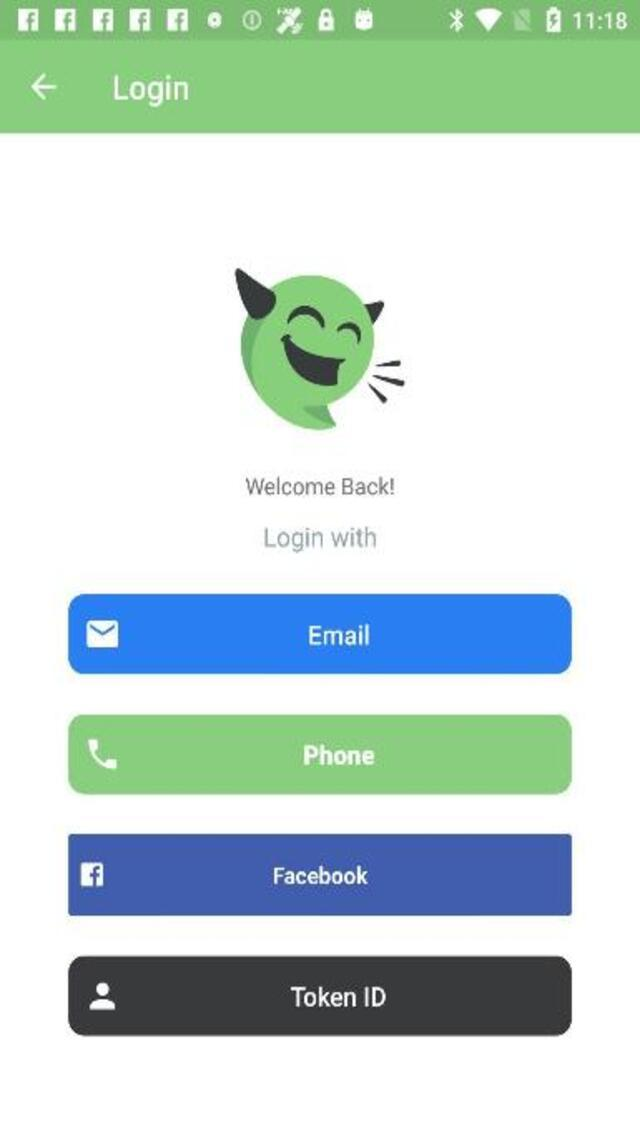Icon: (86, 736, 120, 774), (85, 619, 119, 648), (90, 982, 117, 1012), (80, 860, 106, 888), (29, 74, 56, 100)
Image: (234, 268, 404, 429)
Text: (264, 526, 374, 552), (245, 476, 393, 494), (288, 984, 390, 1010), (269, 864, 370, 889), (114, 74, 189, 106), (298, 741, 380, 770), (306, 620, 373, 650)
TextButton: (67, 834, 571, 916), (68, 595, 570, 675), (68, 714, 570, 794), (68, 956, 570, 1036)
